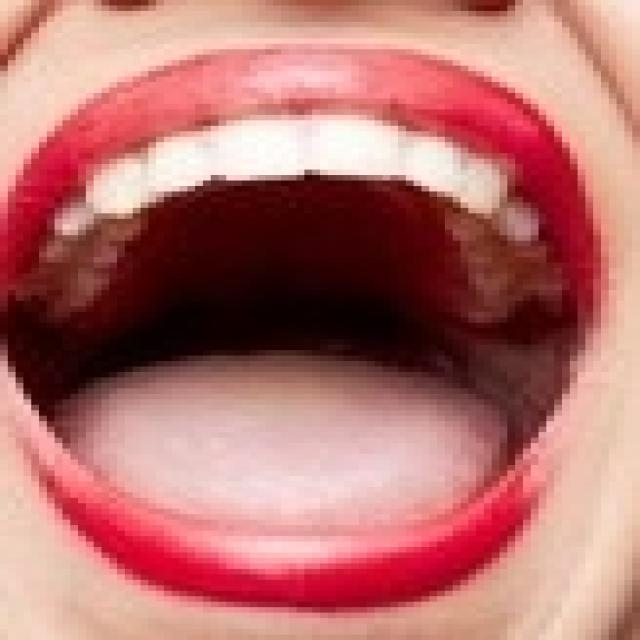open-mouth: (0, 32, 609, 608)
